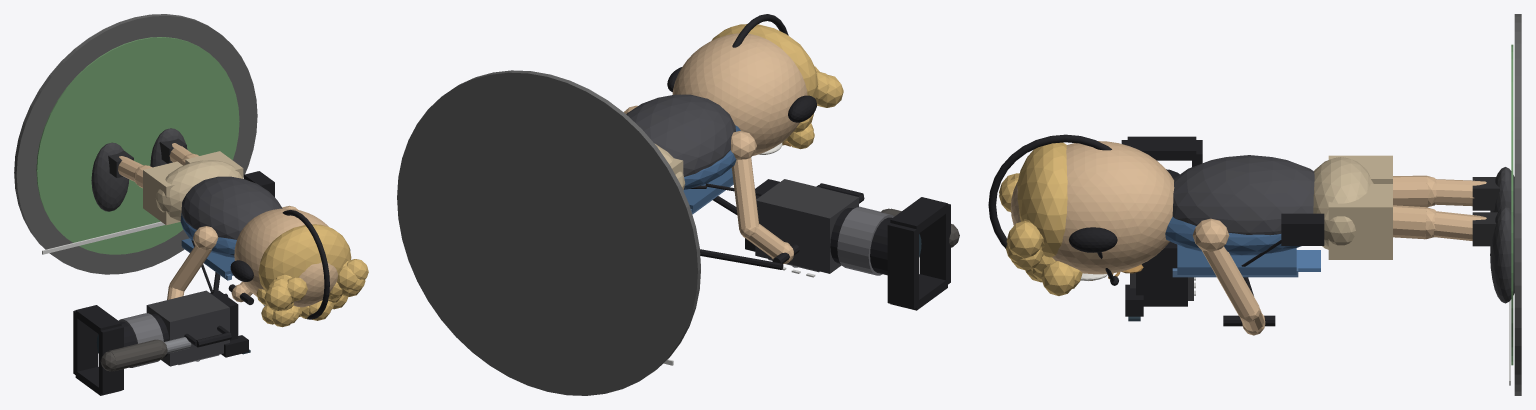
File: stadion_kameramann_chibi_game_asset.glb
3 views of the same model, side by side, from view 1: azimuth 30°, elevation 25°; view 2: azimuth 150°, elevation 25°; view 3: azimuth 270°, elevation 25° (orthographic). The views are drawn at different scales.
Parts seen in each view (by area): view 1: thin_green_sideline_inset, optional_round_base, torso_black_shirt, broadcast_camera_body, head_large_chibi, blond_hair_back_cap, shorts_waist, left_black_shoe, left_short_leg, lens_hood_top, lens_hood_bottom, fuzzy_windscreen_shaft (+24 smaller); view 2: optional_round_base, head_large_chibi, broadcast_camera_body, torso_black_shirt, lens_hood_bottom, zoom_lens_mid_ring, lens_hood_top, blond_hair_back_cap, left_upper_arm_shaft, large_zoom_lens_outer, lens_hood_right, torso_blue_vest (+7 smaller); view 3: head_large_chibi, torso_black_shirt, blond_hair_back_cap, right_short_leg, shorts_waist, optional_round_base, camera_back_battery, vest_front_flat_panel, right_black_shoe, torso_blue_vest, right_upper_arm_shaft, headset_top_band (+17 smaller).
Part boxes in pixels (left/top/right/bottom): thin_green_sideline_inset: left=36, top=37, right=239, bottom=254; optional_round_base: left=14, top=14, right=257, bottom=274; torso_black_shirt: left=181, top=176, right=282, bottom=239; broadcast_camera_body: left=146, top=290, right=229, bottom=366; head_large_chibi: left=234, top=208, right=337, bottom=307; blond_hair_back_cap: left=258, top=224, right=351, bottom=292; shorts_waist: left=155, top=160, right=243, bottom=221; left_black_shoe: left=91, top=142, right=129, bottom=211; left_short_leg: left=143, top=161, right=182, bottom=225; lens_hood_top: left=99, top=326, right=123, bottom=394; lens_hood_bottom: left=73, top=310, right=98, bottom=375; fuzzy_windscreen_shaft: left=108, top=339, right=162, bottom=371; optional_round_base: left=397, top=70, right=700, bottom=395; head_large_chibi: left=672, top=33, right=807, bottom=155; broadcast_camera_body: left=755, top=179, right=858, bottom=273; torso_black_shirt: left=626, top=94, right=735, bottom=176; lens_hood_bottom: left=887, top=223, right=918, bottom=309; zoom_lens_mid_ring: left=837, top=207, right=894, bottom=275; lens_hood_top: left=919, top=204, right=950, bottom=284; blond_hair_back_cap: left=711, top=24, right=818, bottom=98; left_upper_arm_shaft: left=731, top=157, right=758, bottom=229; large_zoom_lens_outer: left=830, top=208, right=919, bottom=275; lens_hood_right: left=890, top=197, right=947, bottom=234; torso_blue_vest: left=683, top=125, right=740, bottom=189; head_large_chibi: left=1010, top=141, right=1174, bottom=274; torso_black_shirt: left=1172, top=155, right=1314, bottom=235; blond_hair_back_cap: left=1017, top=142, right=1067, bottom=257; right_short_leg: left=1328, top=184, right=1392, bottom=259; shorts_waist: left=1313, top=157, right=1373, bottom=249; optional_round_base: left=1514, top=14, right=1521, bottom=395; camera_back_battery: left=1136, top=241, right=1187, bottom=306; vest_front_flat_panel: left=1177, top=244, right=1296, bottom=274; right_black_shoe: left=1490, top=206, right=1514, bottom=303; torso_blue_vest: left=1165, top=216, right=1301, bottom=255; right_upper_arm_shaft: left=1202, top=246, right=1259, bottom=317; headset_top_band: left=988, top=134, right=1111, bottom=248.
Bounding box in the file's own units: 3.12 × 2.5 × 3.49.
